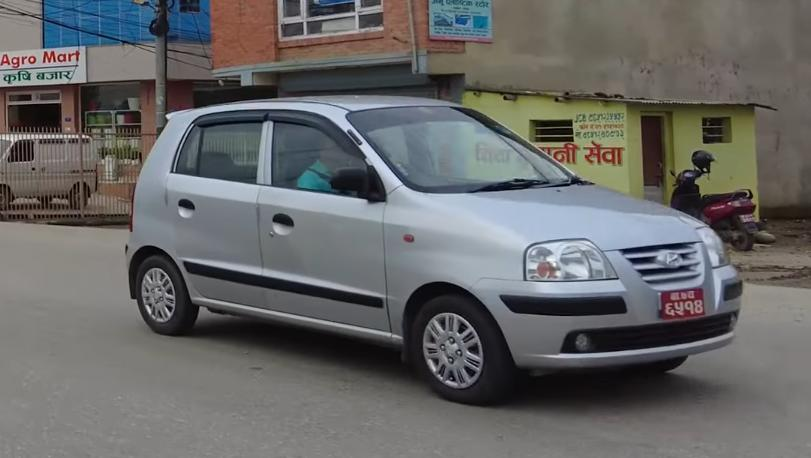car: (135, 95, 745, 402)
scooter: (667, 166, 761, 254)
van: (0, 131, 100, 213)
